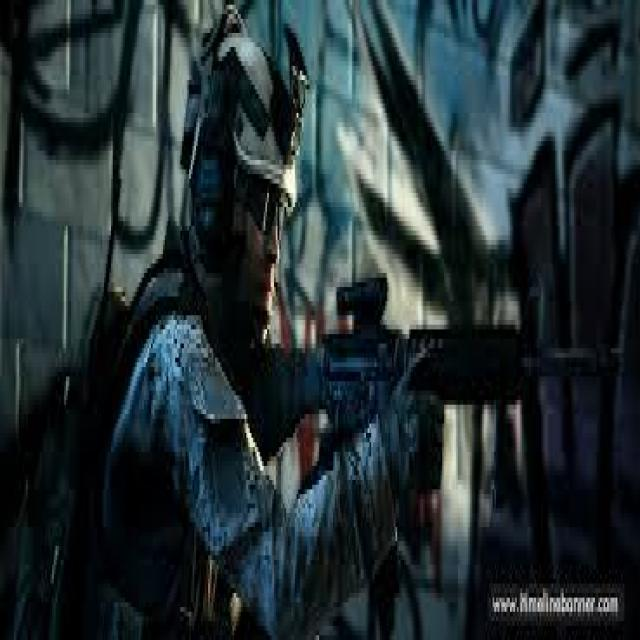soldier: (80, 1, 622, 640)
